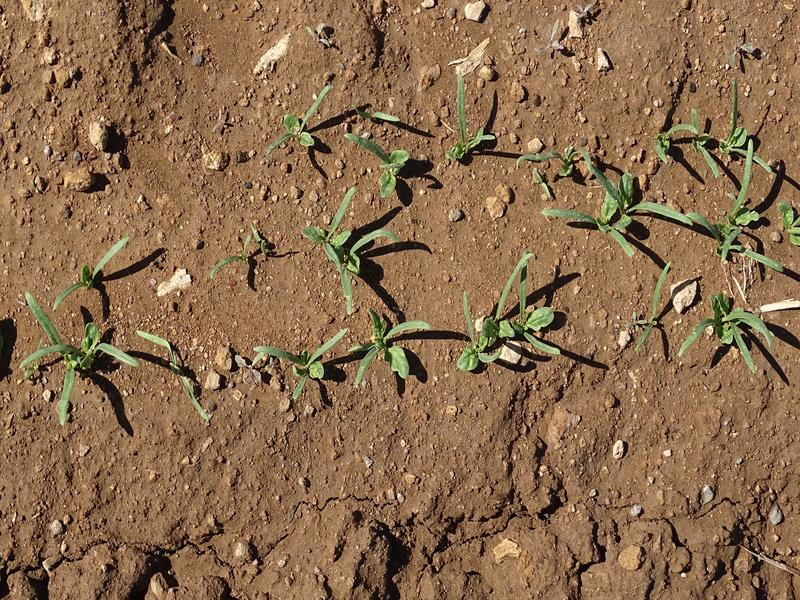Espinaca: (524, 104, 800, 261), (22, 241, 142, 418), (629, 273, 773, 366), (445, 255, 566, 358), (265, 312, 347, 408), (312, 203, 386, 304), (354, 308, 437, 394), (438, 69, 505, 172), (349, 124, 419, 200), (274, 85, 330, 161), (219, 226, 276, 273)
